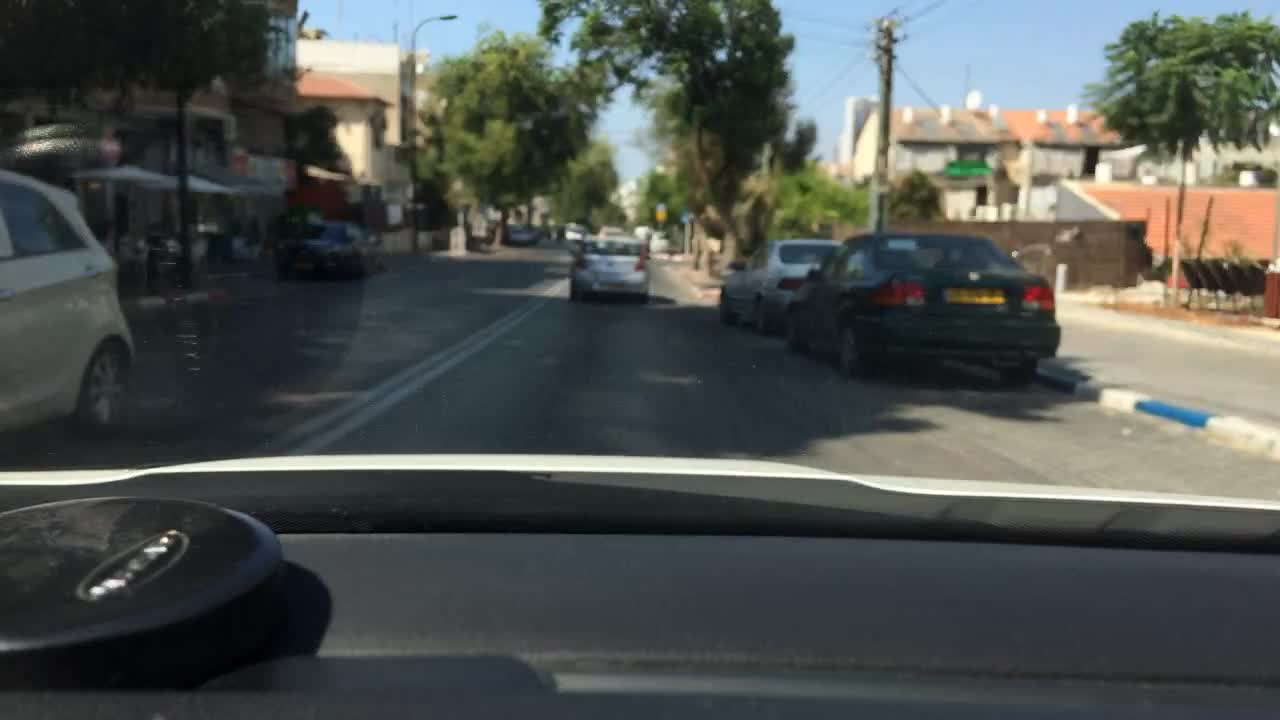car: (787, 232, 1060, 391), (0, 165, 134, 446), (716, 237, 844, 334), (272, 215, 389, 281), (566, 232, 653, 303), (509, 223, 540, 247), (647, 230, 671, 254), (566, 223, 590, 242), (596, 223, 623, 237)
